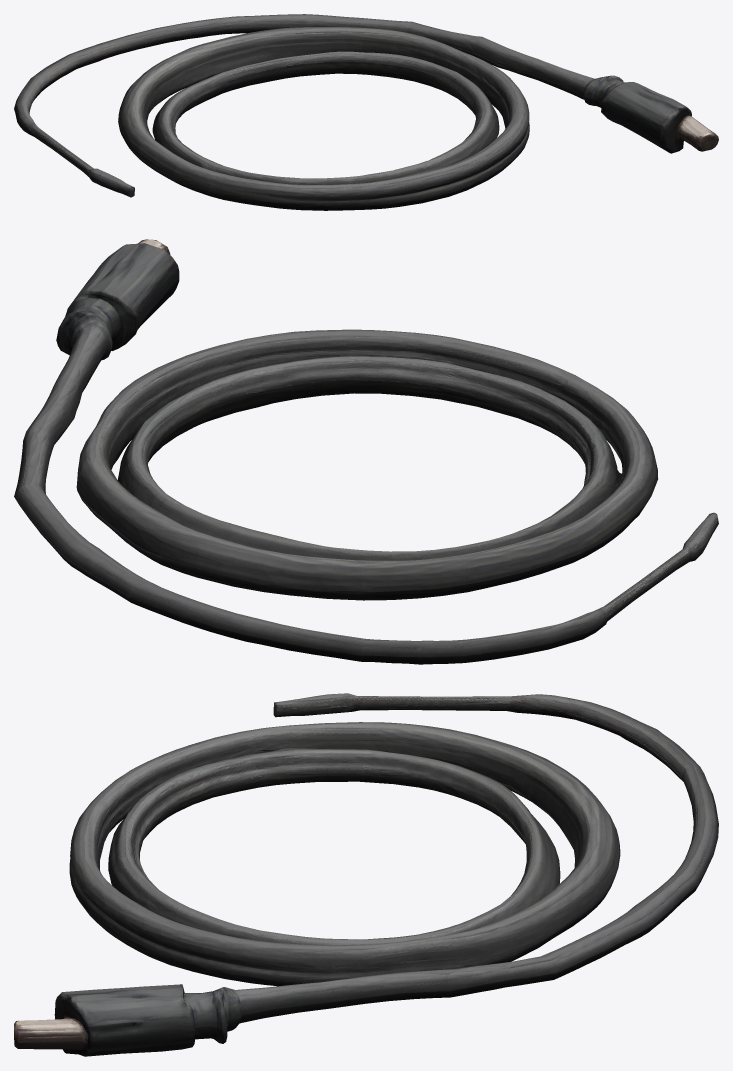
The picture shows the model from 3 angles, top to bottom: view 1: azimuth 30°, elevation 25°; view 2: azimuth 150°, elevation 25°; view 3: azimuth 270°, elevation 25°; orthographic projection. The views are drawn at different scales.
Parts seen in each view (by area): view 1: world; view 2: world; view 3: world.
Boxes of the visible parts, box(x1,y1,x2,y2) form: world: box(14, 14, 718, 210); world: box(14, 239, 718, 664); world: box(14, 693, 718, 1056).
Bounding box in the file's own units: 0.9691 × 0.0756 × 0.8406.
1 material, 1 textured.
